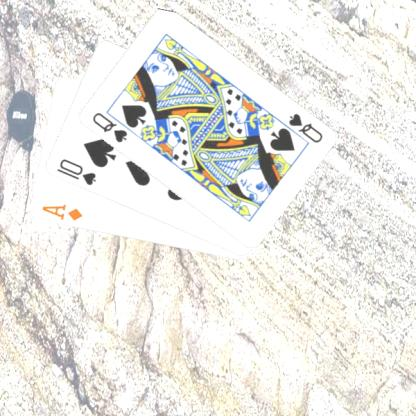10S: (53, 156, 98, 187)
AD: (38, 202, 84, 222)
QS: (89, 109, 128, 145), (284, 111, 324, 145)
